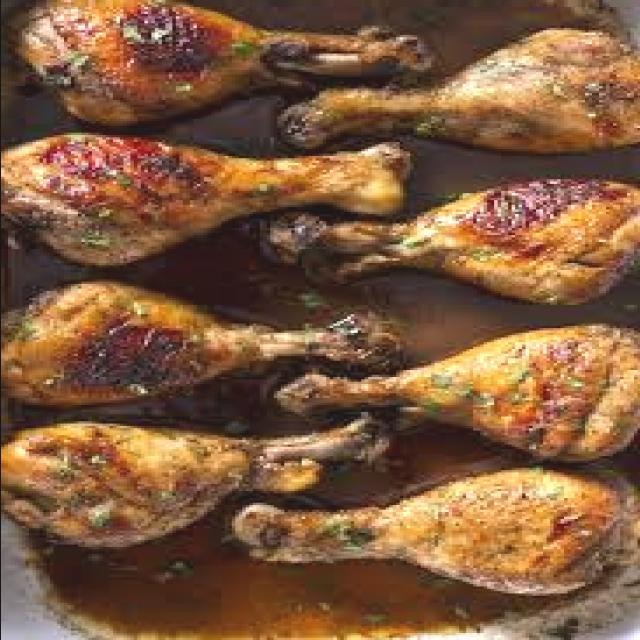ayam bakar: (226, 462, 626, 603), (0, 126, 417, 257), (0, 407, 406, 541), (0, 266, 399, 402), (280, 320, 635, 465), (259, 177, 635, 311), (7, 0, 419, 118), (287, 26, 640, 160)
